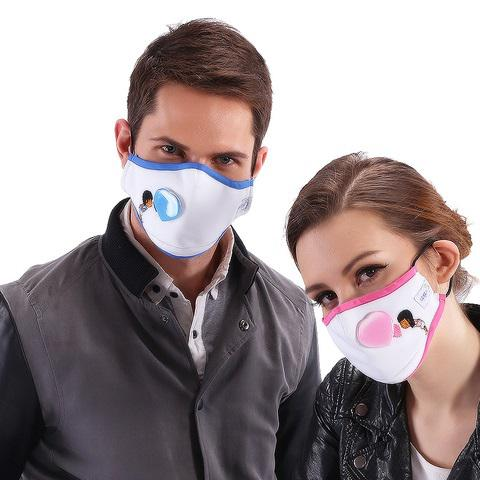OK: (309, 243, 443, 382), (133, 128, 263, 258)
